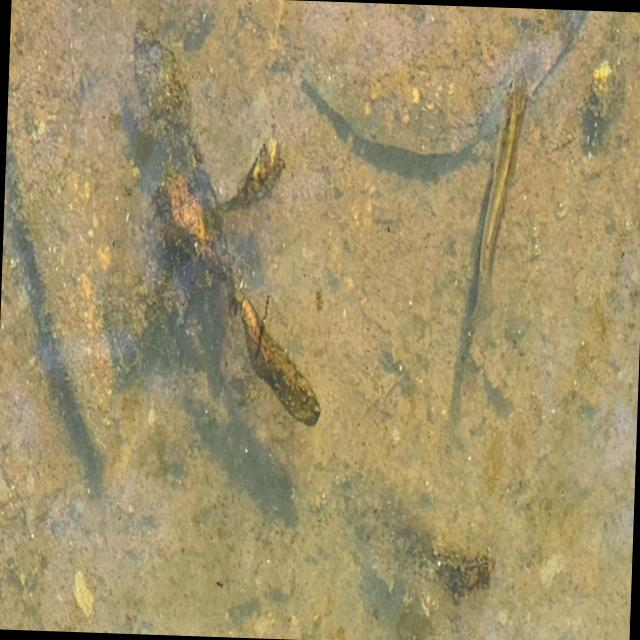Sivrisinek Baligi: (460, 72, 530, 321)
